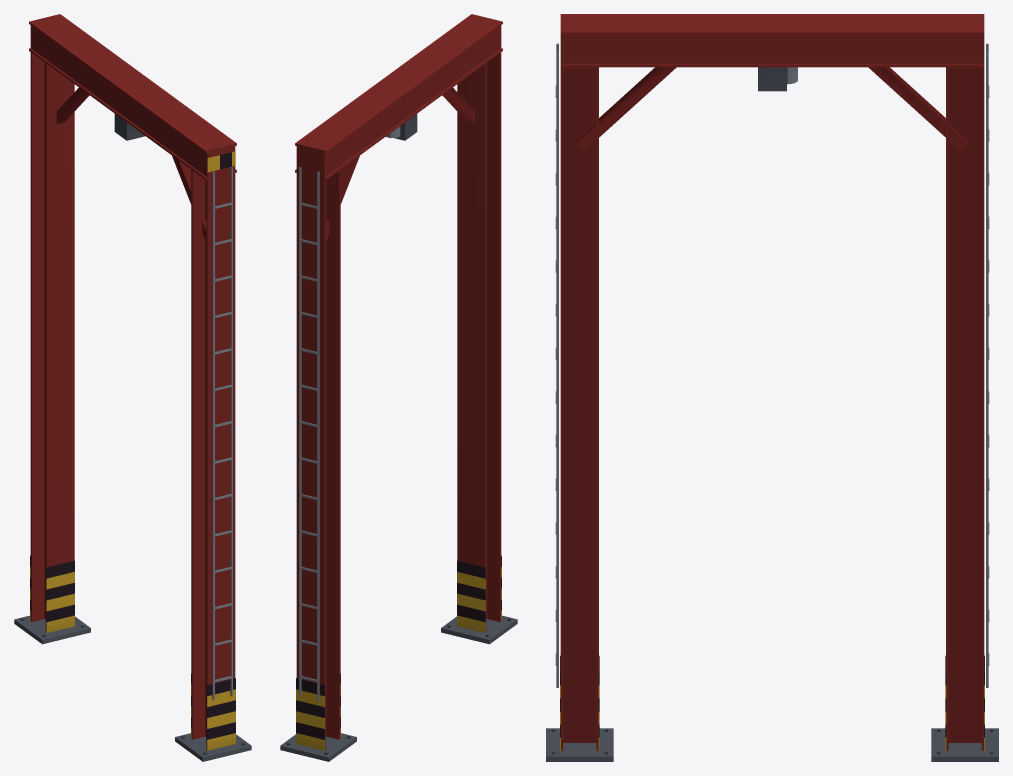
The model's file is y_gantry.glb.
3 renders of one model, left to right at view 1: azimuth 30°, elevation 25°; view 2: azimuth 150°, elevation 25°; view 3: azimuth 270°, elevation 25°, orthographic. The views are drawn at different scales.
Parts seen in each view (by area): view 1: y_gantry; view 2: y_gantry; view 3: y_gantry.
Boxes of the visible parts, left/top/right/bottom form: y_gantry: left=14, top=14, right=251, bottom=761; y_gantry: left=280, top=14, right=517, bottom=761; y_gantry: left=546, top=14, right=998, bottom=761.
Bounding box in the file's own units: 1.4 × 16.6 × 9.4.
